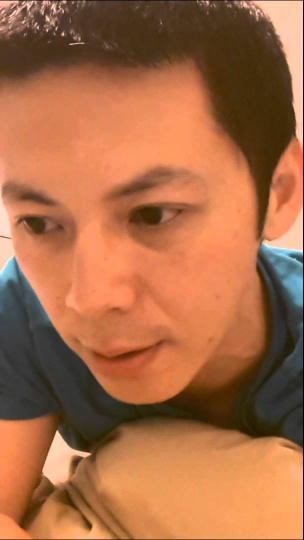male: (1, 6, 296, 422)
